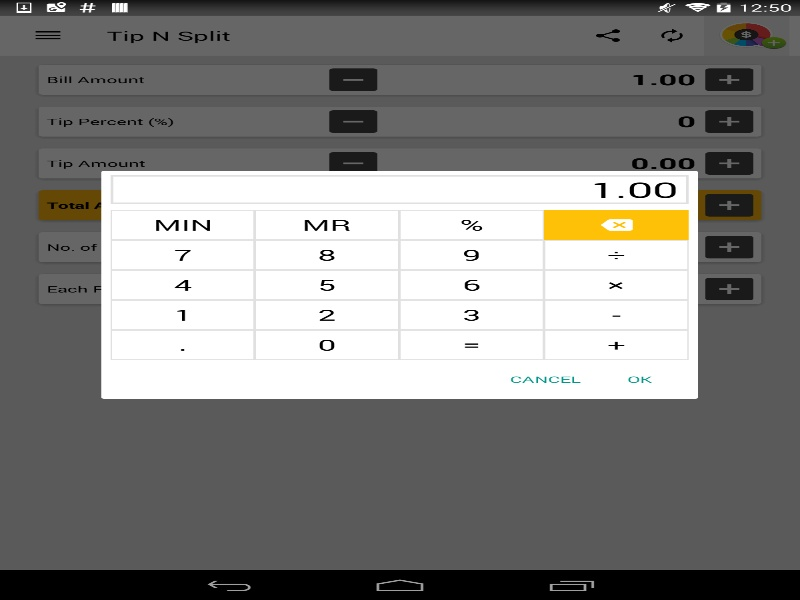Button: (254, 210, 399, 240), (399, 210, 544, 240), (254, 240, 399, 270), (399, 240, 544, 270), (254, 270, 399, 300), (399, 270, 544, 300), (254, 300, 399, 330), (399, 300, 544, 330), (254, 330, 399, 360), (399, 330, 544, 360), (110, 210, 254, 240), (544, 210, 688, 240), (110, 240, 254, 270), (544, 240, 688, 270), (110, 270, 254, 300), (544, 270, 688, 300), (110, 300, 254, 330), (544, 300, 688, 330), (110, 330, 254, 360), (544, 330, 688, 360), (494, 362, 596, 396), (596, 362, 682, 396)
Input: (110, 175, 688, 203)
